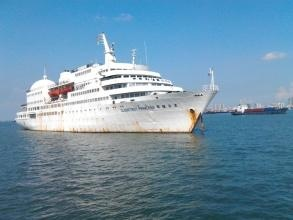youlun: (12, 27, 218, 134)
